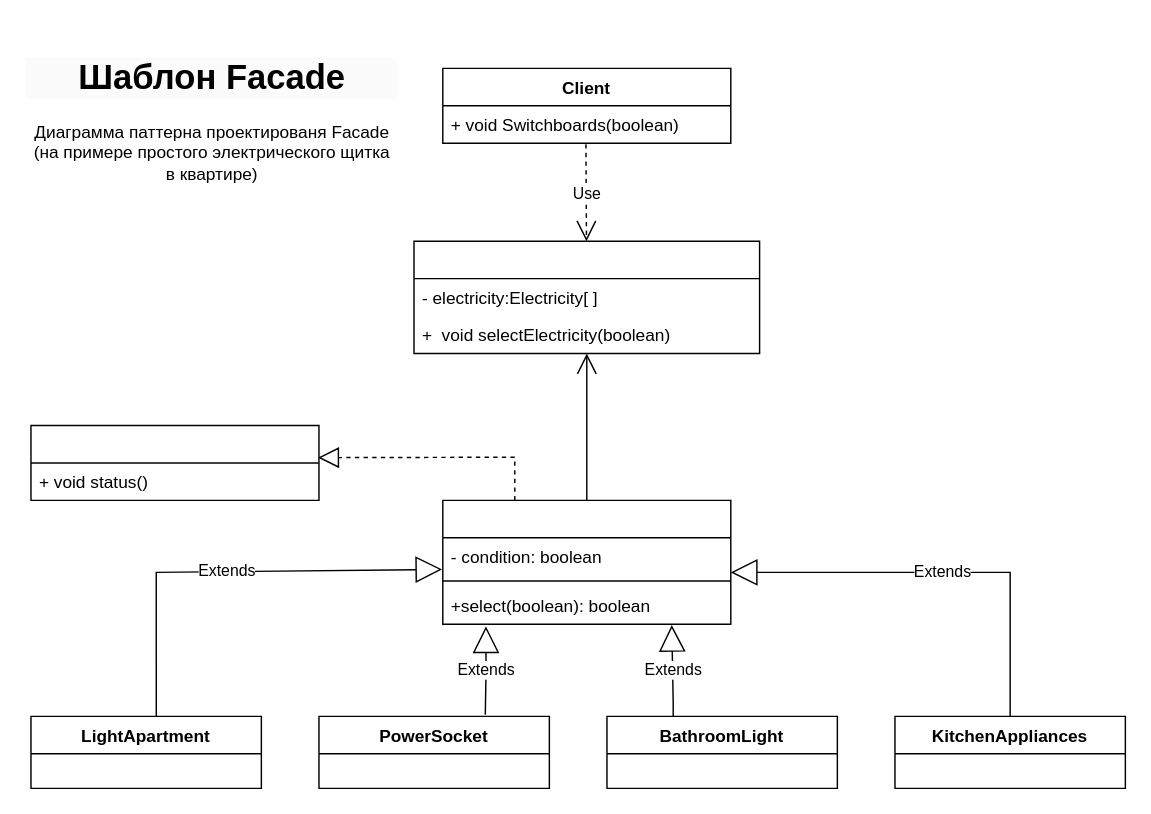
This 1151x814 diagram has some shape labels left out. The box of each missing label's shape, as (x1, y1, x2, y2) in pixels:
<<Interface>> ElectricityStatus: (30, 424, 319, 500)
Electricity: (441, 499, 731, 624)
Switchboards Facade: (413, 240, 760, 354)
